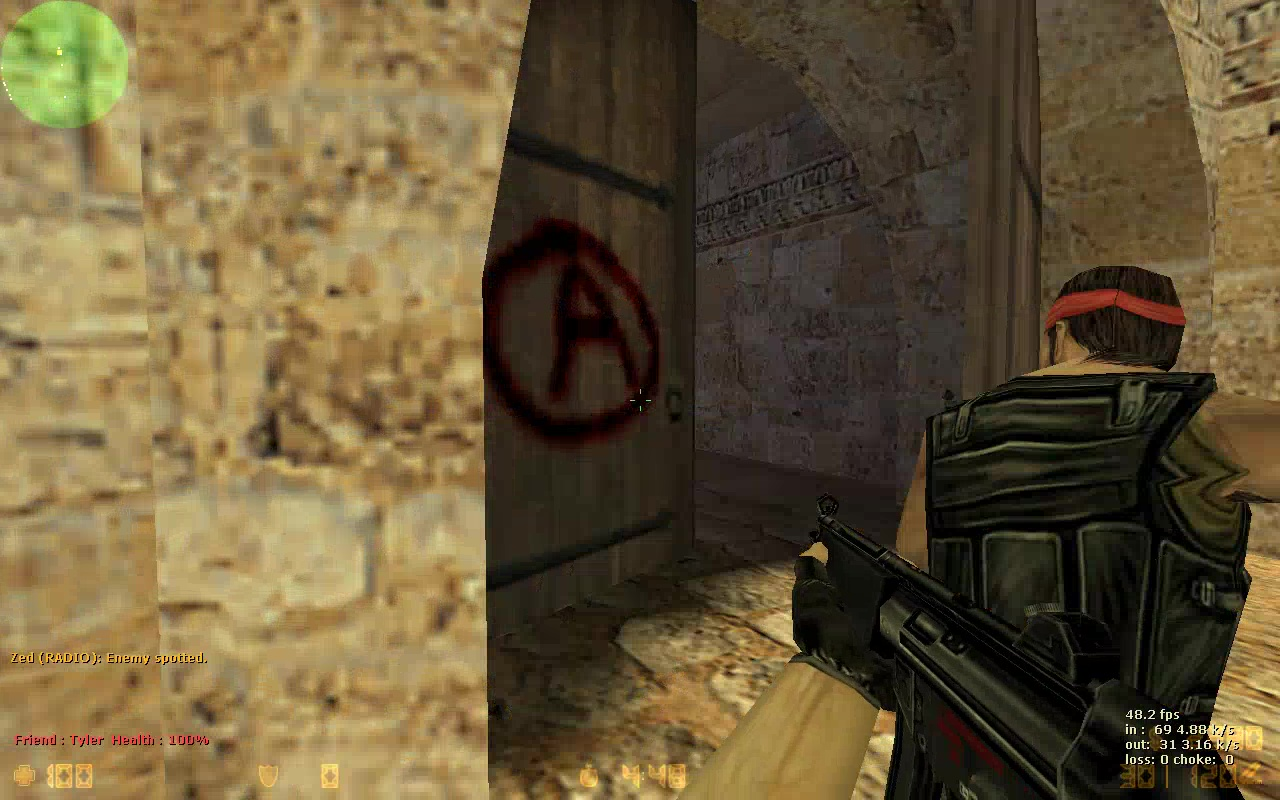terr1: (852, 259, 1279, 799)
